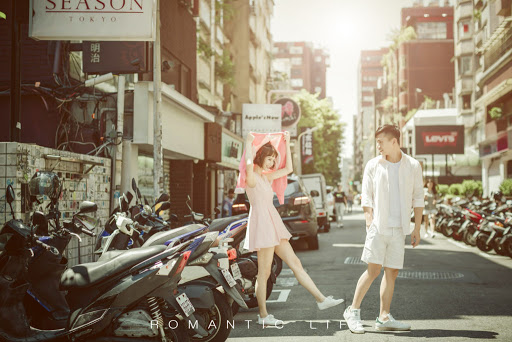people: (244, 142, 344, 325), (349, 123, 423, 331), (424, 178, 439, 239)
